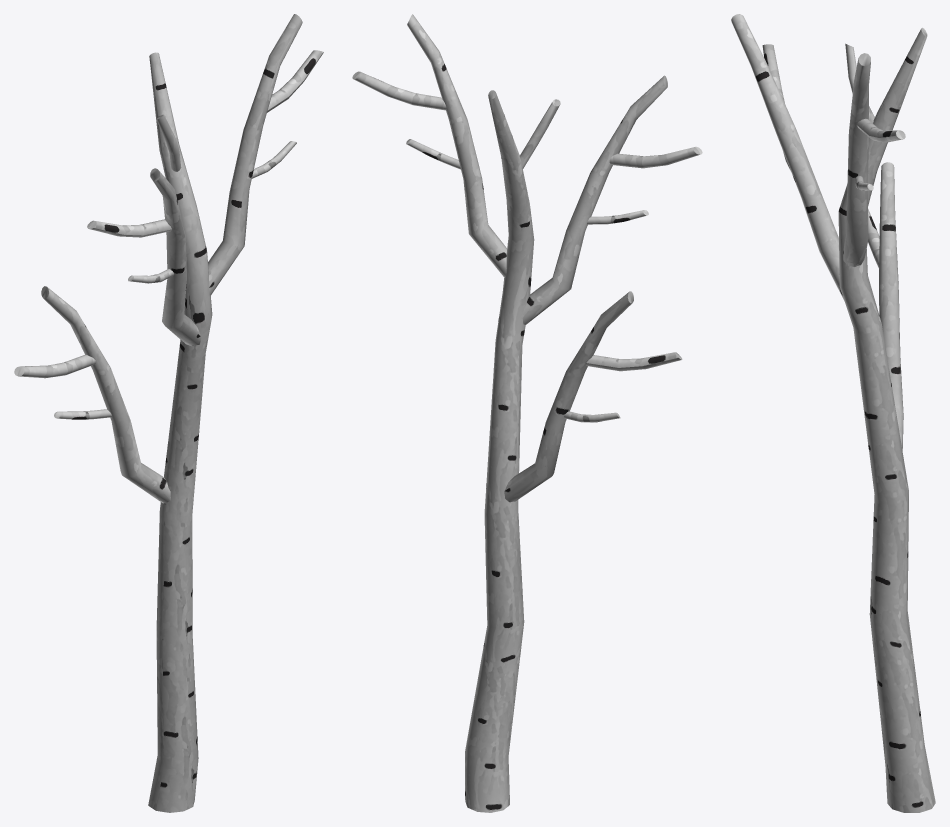
The model's file is quaternius-textured-stylized-trees-deadbirch-4.glb.
3 views of the same model, side by side, from view 1: azimuth 30°, elevation 25°; view 2: azimuth 150°, elevation 25°; view 3: azimuth 270°, elevation 25° (orthographic). The views are drawn at different scales.
Visible parts, largest first — view 1: DeadBirch_4; view 2: DeadBirch_4; view 3: DeadBirch_4.
Boxes of the visible parts, box(x1,y1,x2,y2) form: DeadBirch_4: box(14, 14, 323, 812); DeadBirch_4: box(352, 14, 702, 812); DeadBirch_4: box(731, 14, 935, 812).
Size of the model in its own units: 4.21 by 9.64 by 2.23.
Materials: 1 (1 with a texture image).
